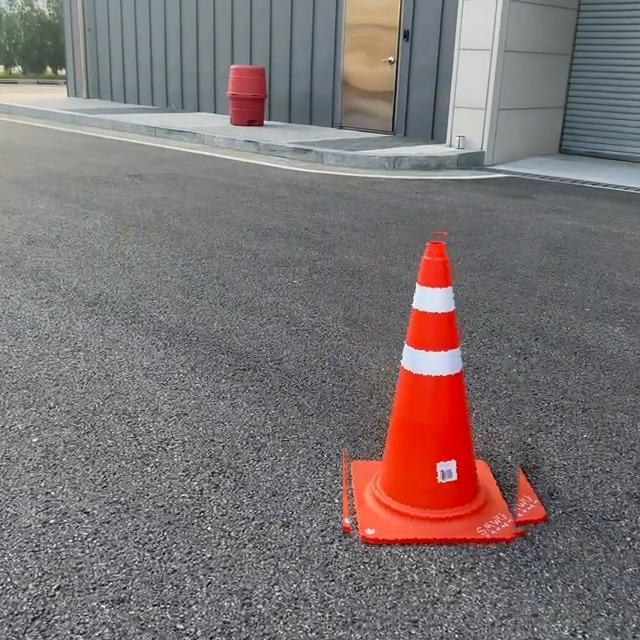fallen_object: (325, 182, 563, 595)
